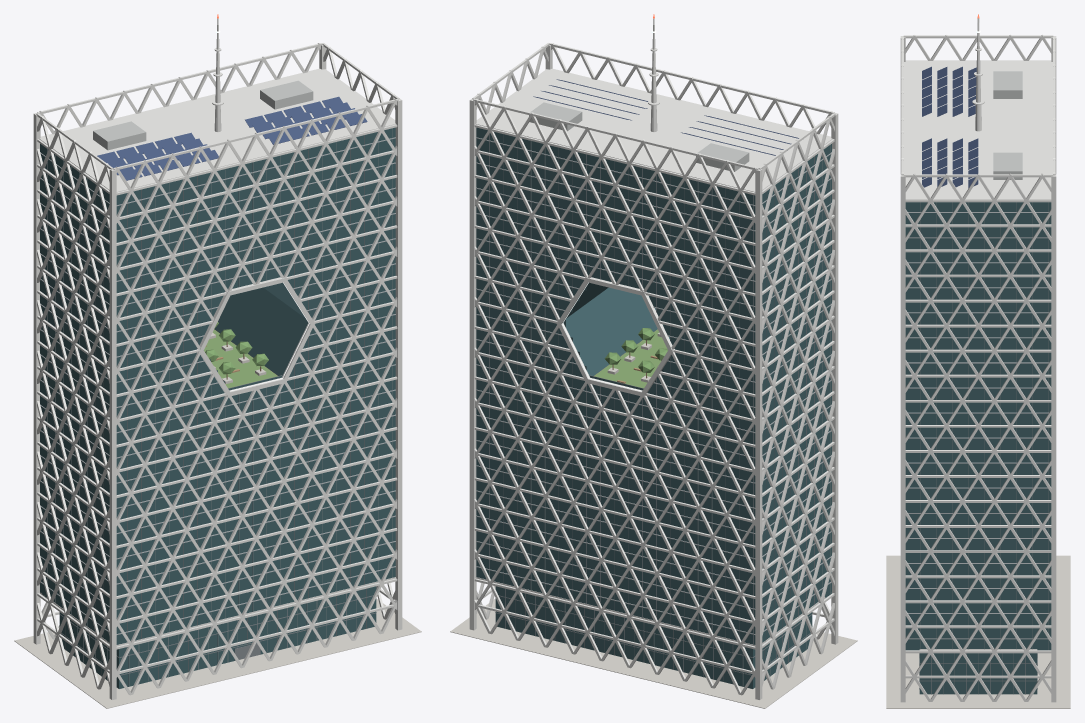
Rendered from macro_panal.glb.
3 renders of one model, left to right at view 1: azimuth 30°, elevation 25°; view 2: azimuth 150°, elevation 25°; view 3: azimuth 270°, elevation 25°, orthographic.
Parts seen in each view (by area): view 1: macro_panal; view 2: macro_panal; view 3: macro_panal.
Boxes of the visible parts, <box> form: macro_panal: <box>14,14,421,708</box>; macro_panal: <box>450,14,857,708</box>; macro_panal: <box>886,14,1070,708</box>.
Size of the model in its own units: 98 by 186 by 50.
